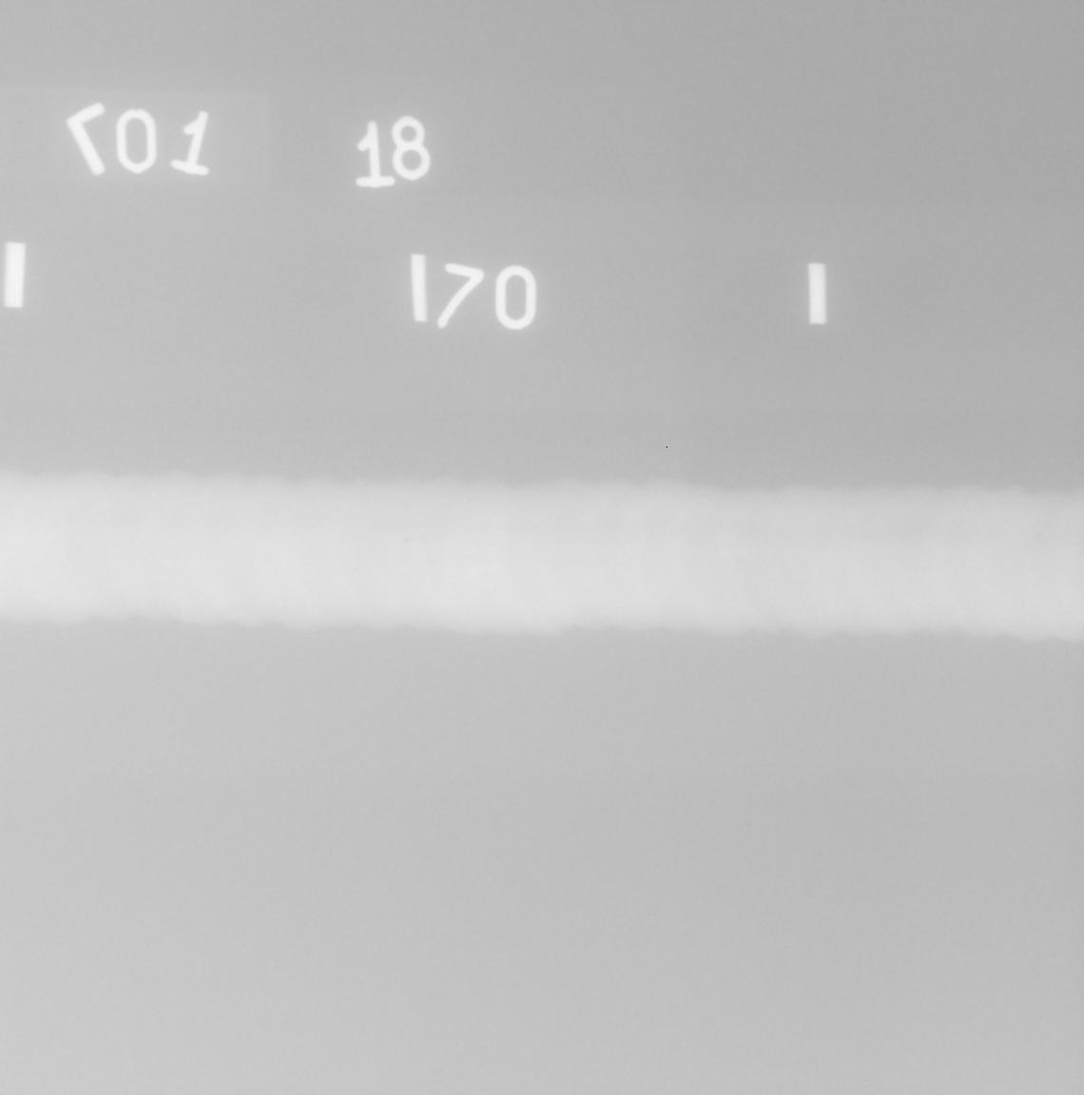Pore/Porosity: (352, 566, 362, 574), (1036, 533, 1044, 539), (405, 538, 409, 542)
